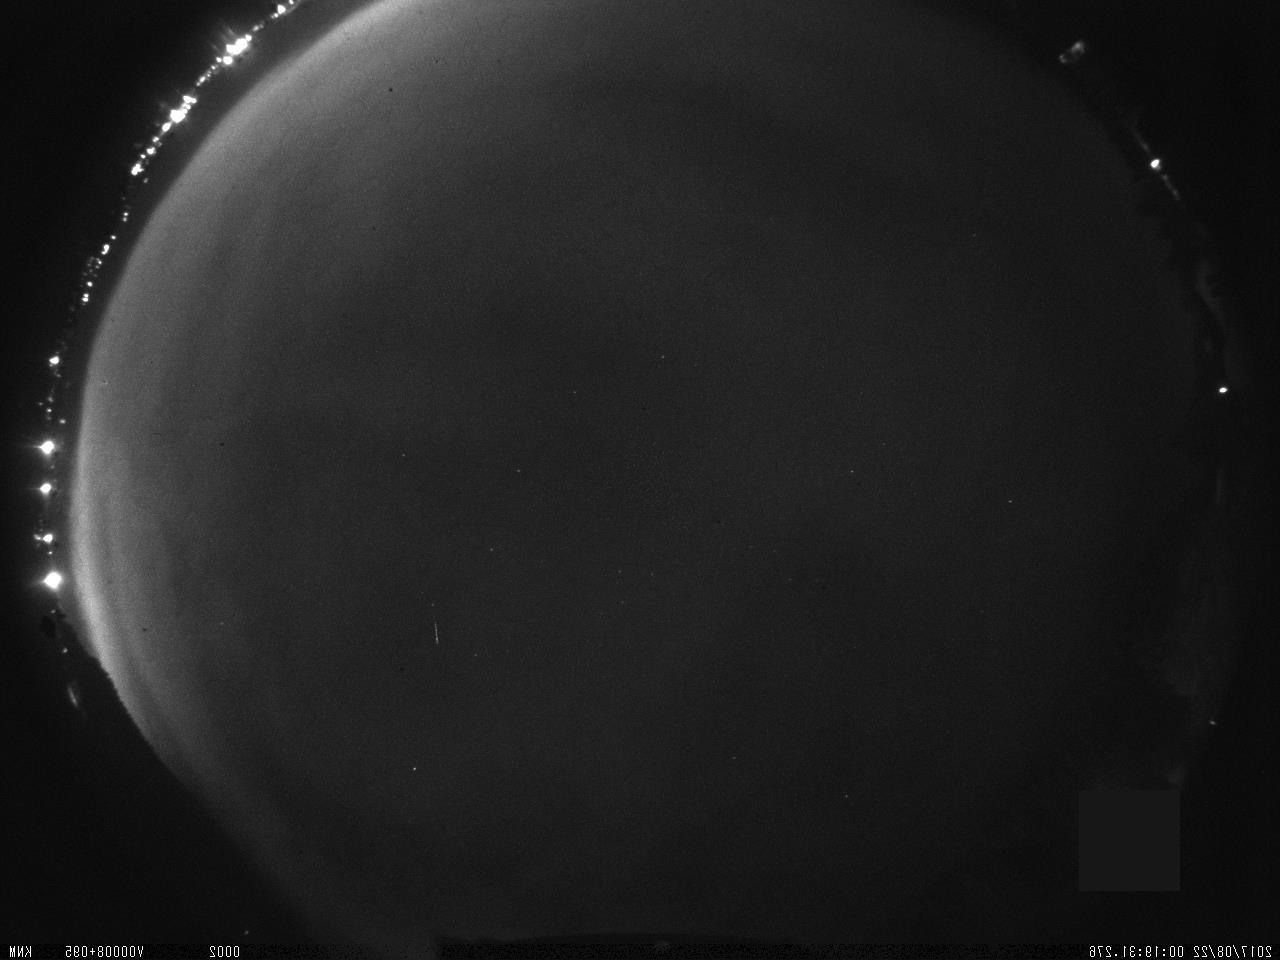meteor: (418, 601, 453, 659)
